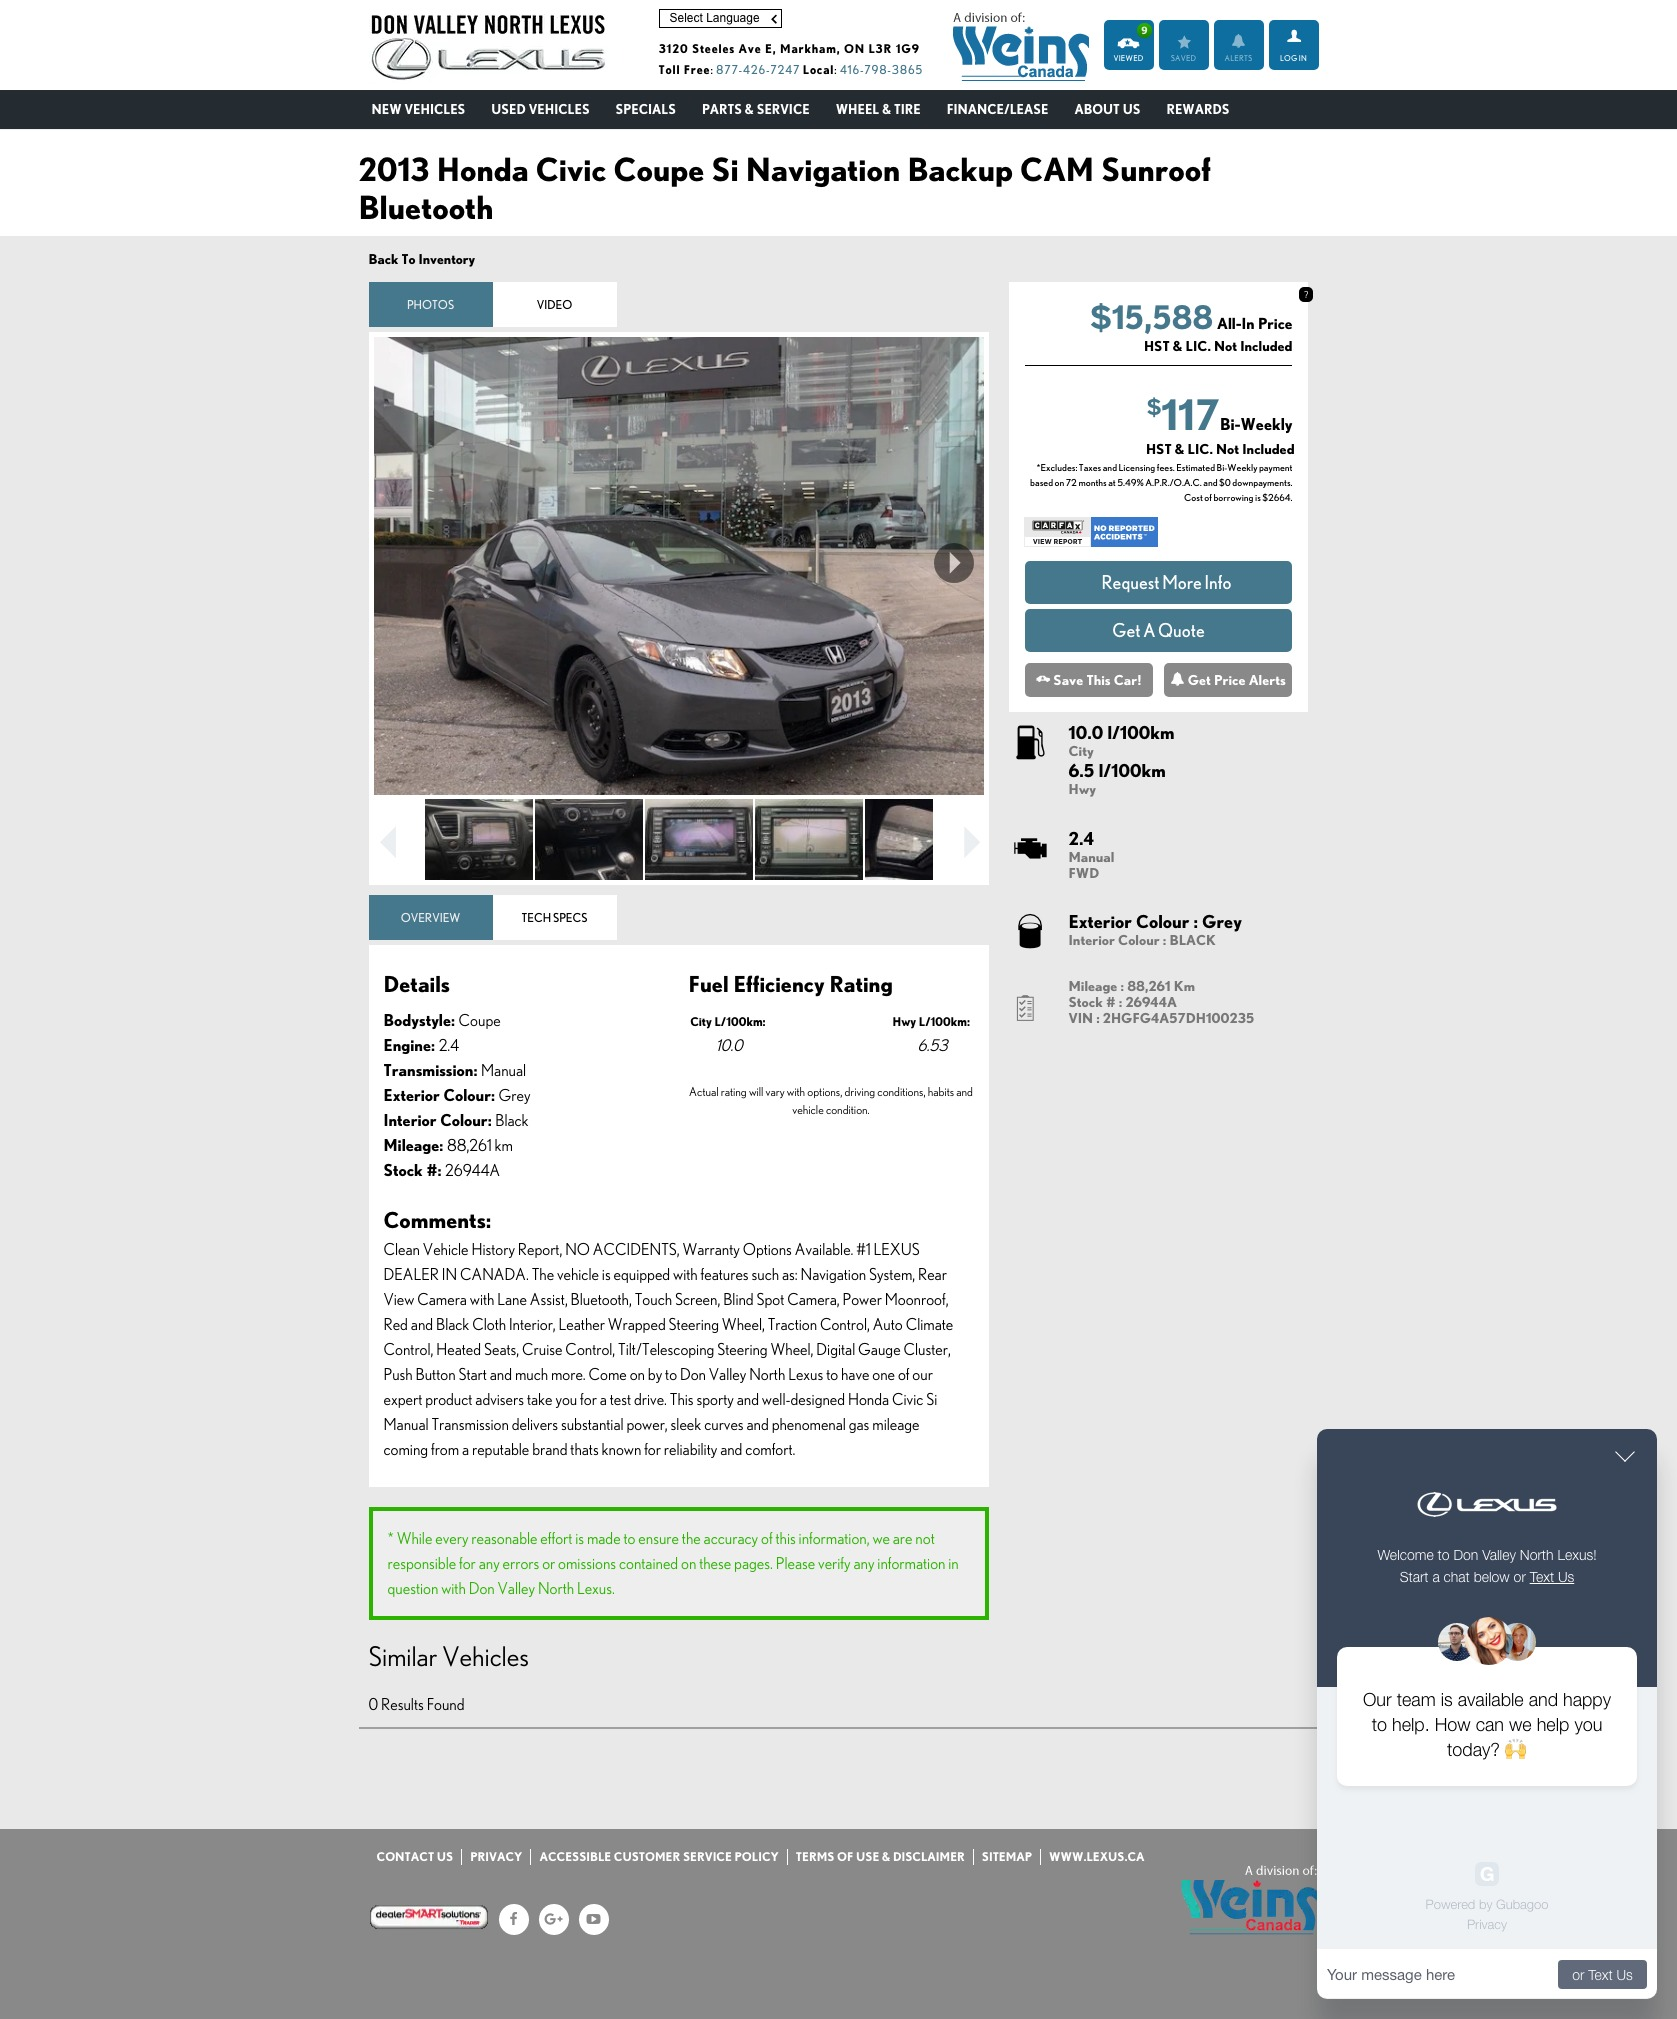car: (963, 827, 981, 859)
